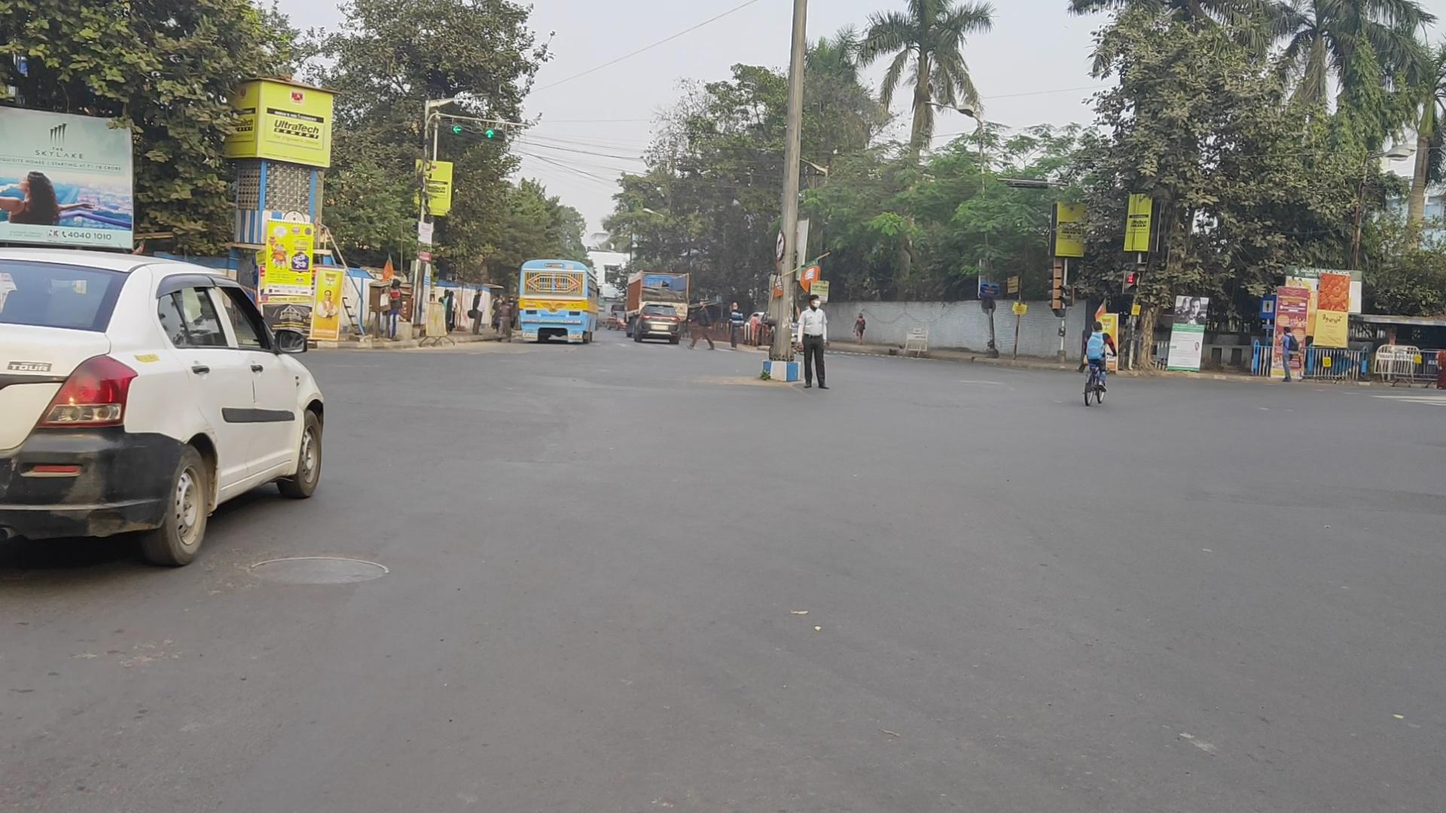Bus: (519, 260, 599, 344)
bike: (1084, 321, 1117, 410)
car: (1, 245, 325, 568), (635, 303, 680, 345)
truck: (625, 272, 690, 337)
